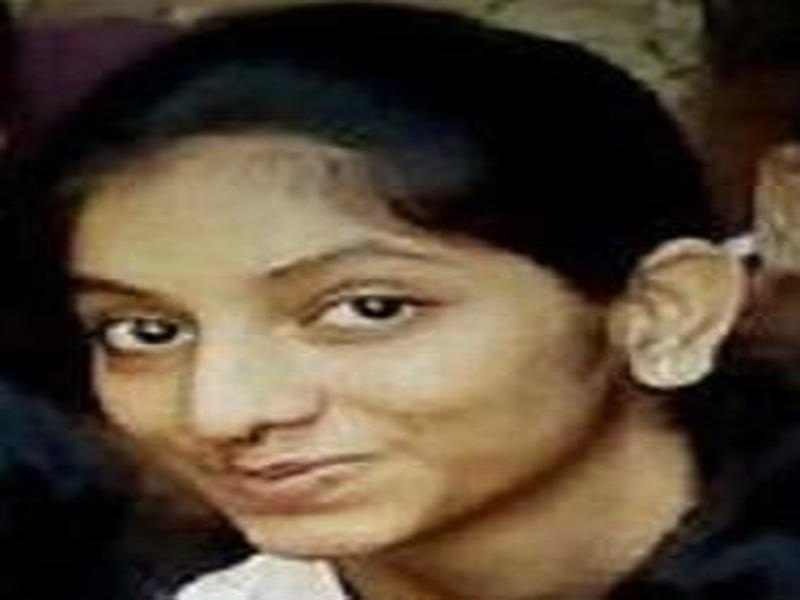without_mask: (68, 180, 604, 559)
